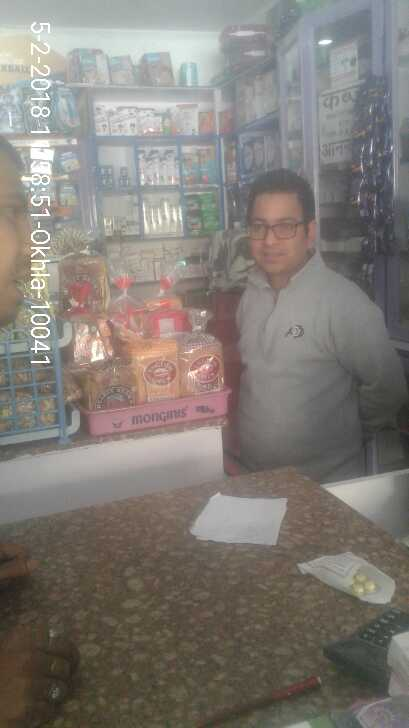vicks: (97, 162, 133, 191)
